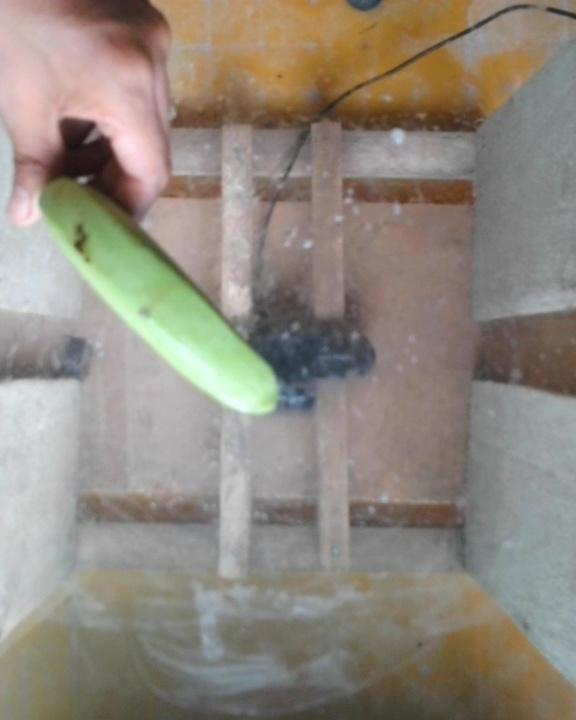CLASS B: (22, 153, 277, 418)
Class A: (67, 215, 104, 262)
